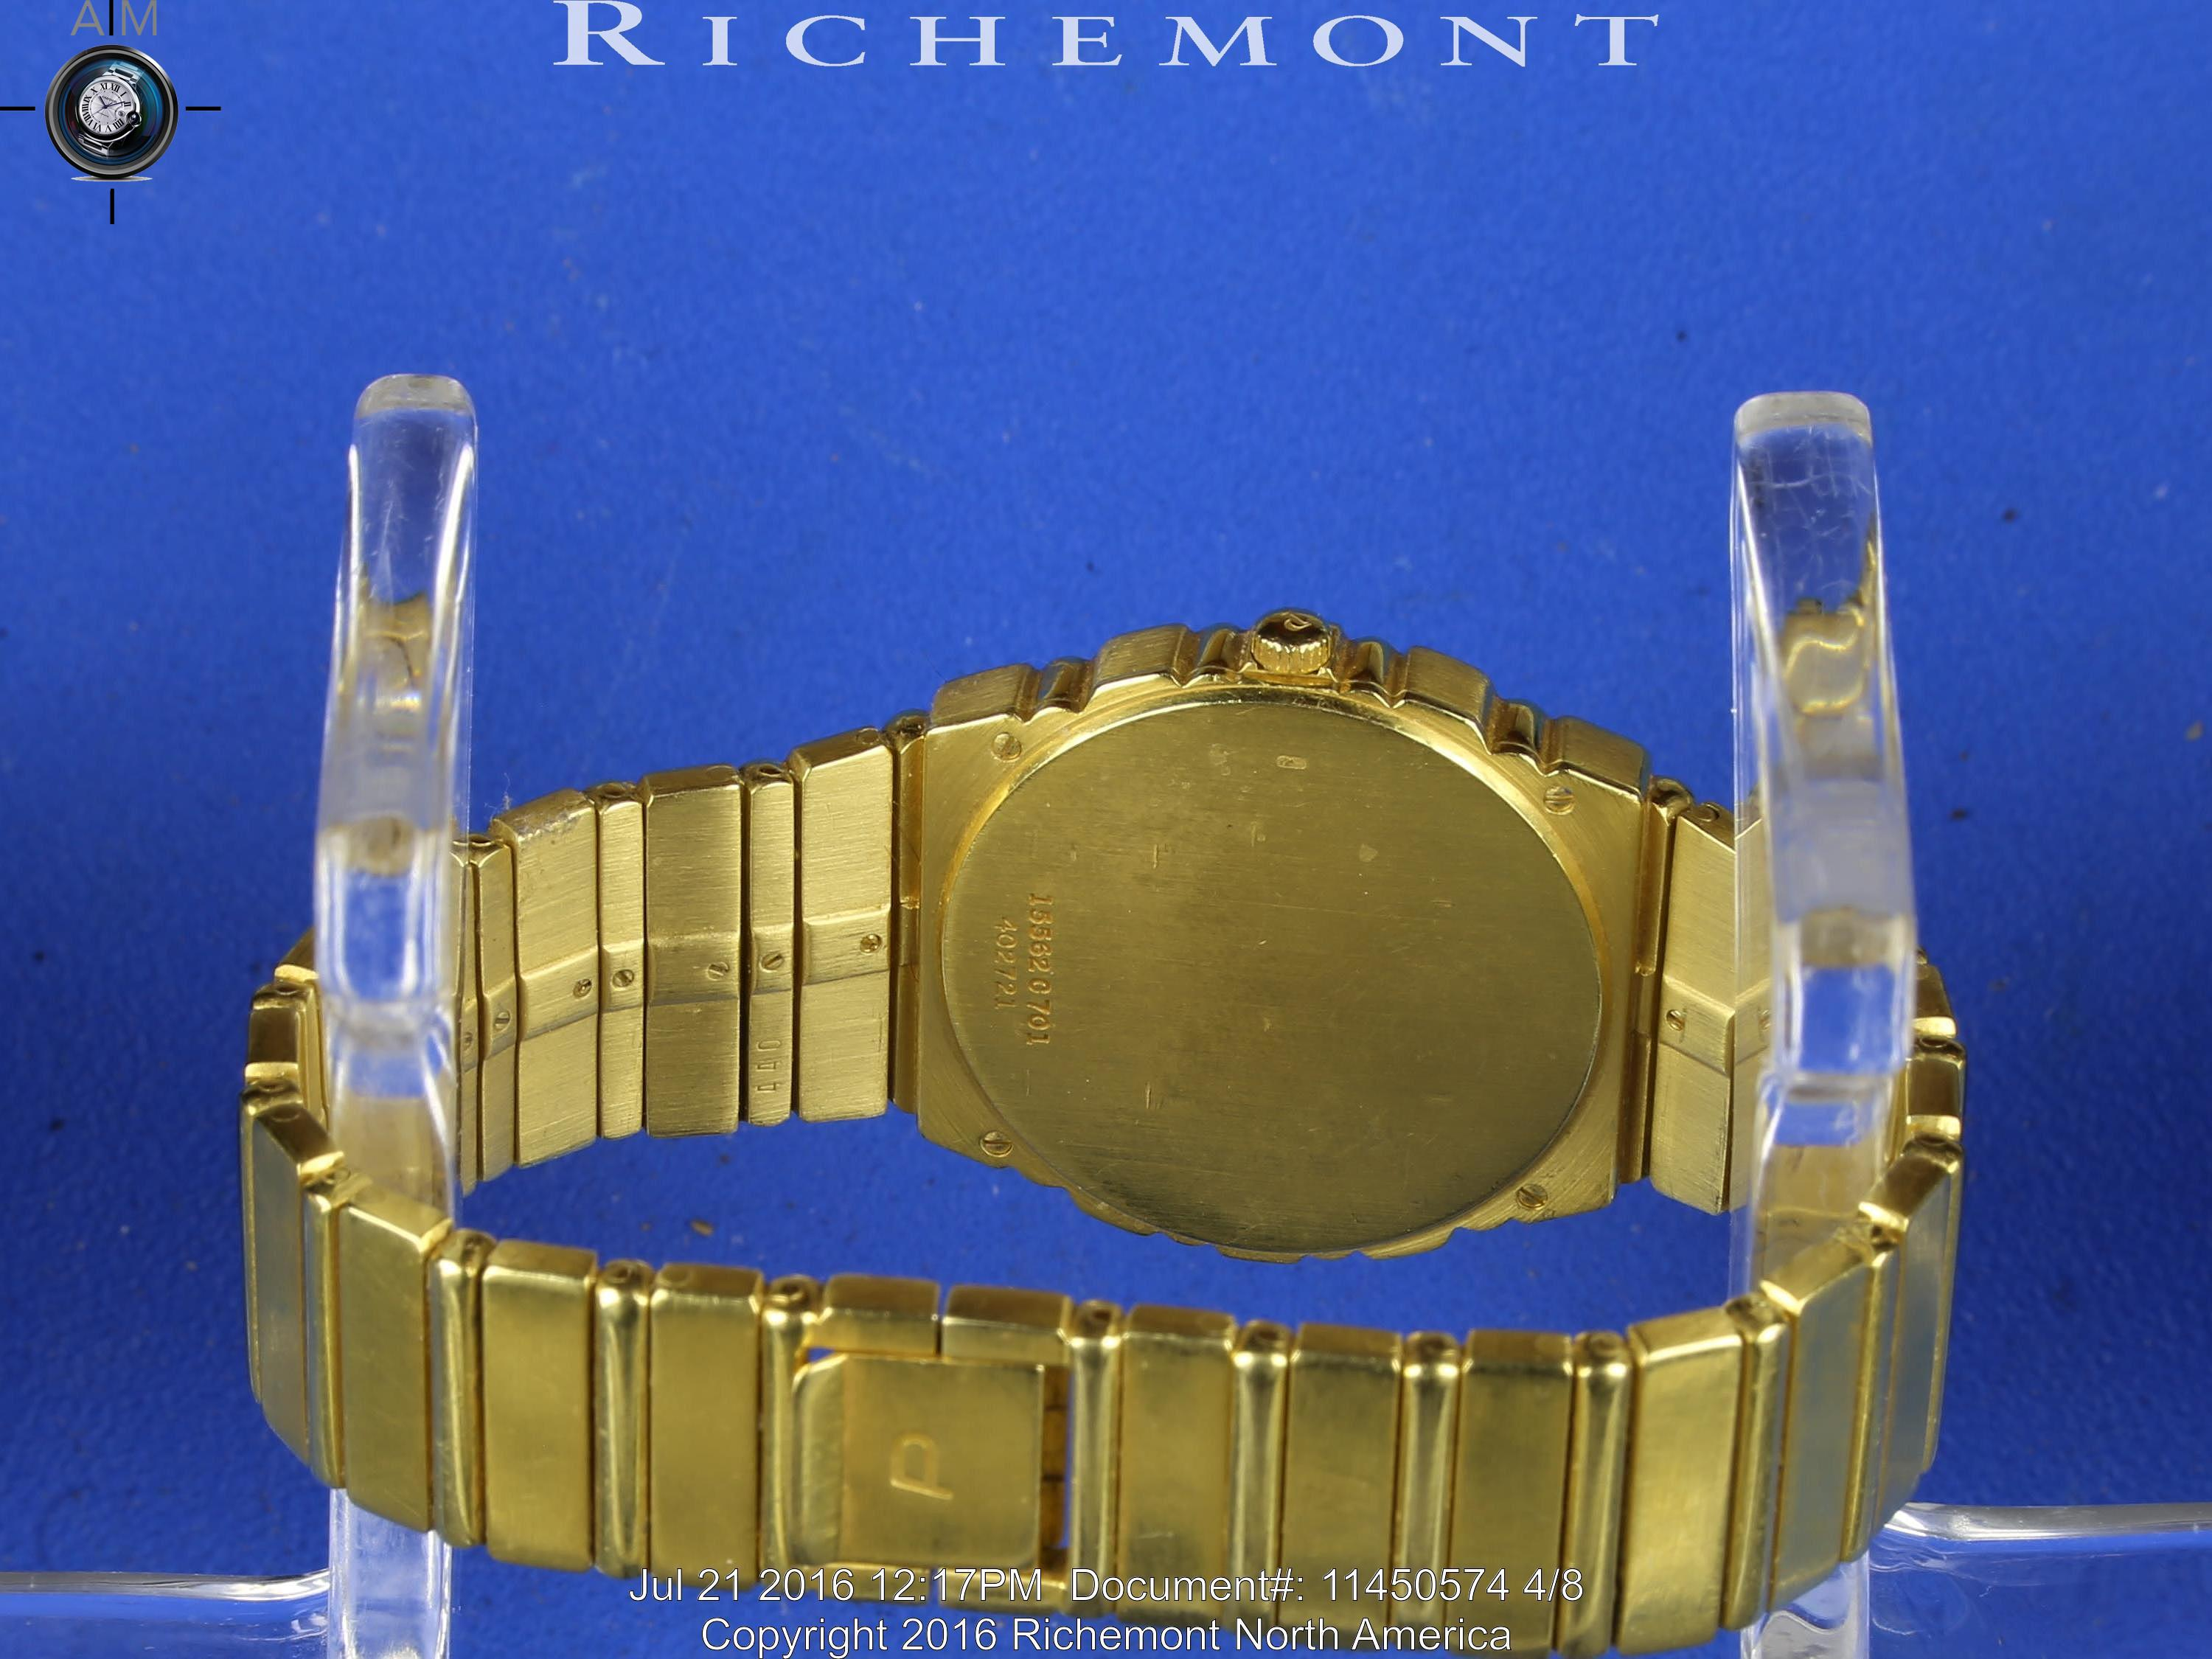Watch BackCase: (906, 594, 1653, 1267)
